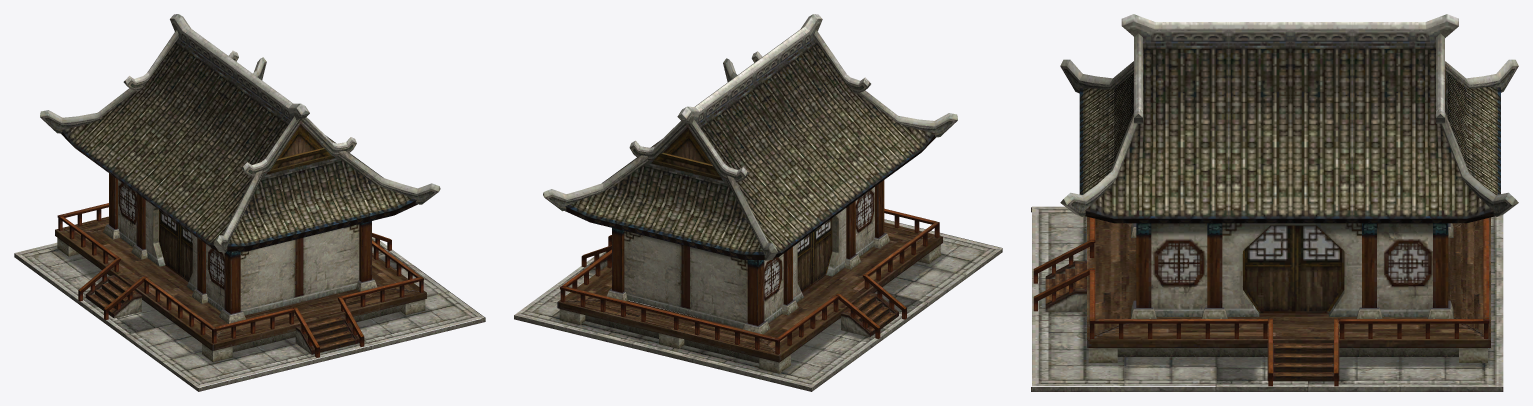
Rendered from house.glb.
3 renders of one model, left to right at view 1: azimuth 30°, elevation 25°; view 2: azimuth 150°, elevation 25°; view 3: azimuth 270°, elevation 25°, orthographic. The views are drawn at different scales.
Parts seen in each view (by area): view 1: b1-008-house5-01, b1-008-house5-03.001, b1-008-house5-02; view 2: b1-008-house5-01, b1-008-house5-03.001, b1-008-house5-02; view 3: b1-008-house5-01, b1-008-house5-03.001, b1-008-house5-02.
Part boxes in pixels (box(x1,y1,x2,y2)): b1-008-house5-01: box(14, 14, 485, 391); b1-008-house5-03.001: box(55, 173, 484, 387); b1-008-house5-02: box(118, 180, 359, 315); b1-008-house5-01: box(514, 14, 1002, 391); b1-008-house5-03.001: box(557, 180, 1002, 373); b1-008-house5-02: box(624, 187, 874, 328); b1-008-house5-01: box(1031, 14, 1518, 391); b1-008-house5-03.001: box(1032, 206, 1490, 386); b1-008-house5-02: box(1151, 223, 1432, 317).
Bounding box in the file's own units: 1476 × 1100 × 1691.
3 materials, 3 textured.
